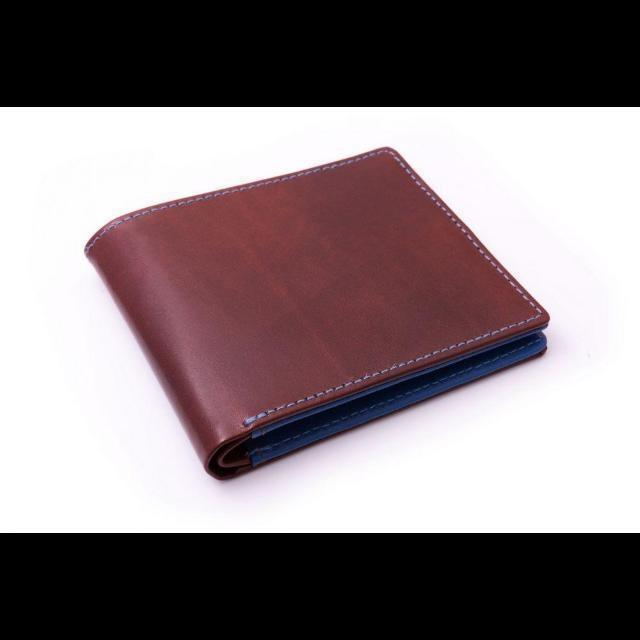Wallet: (82, 145, 552, 485)
